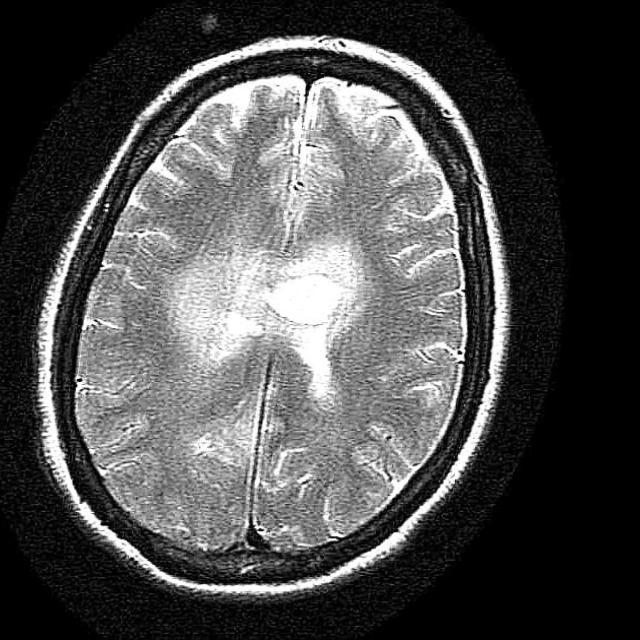Tumor: (275, 270, 351, 329)
